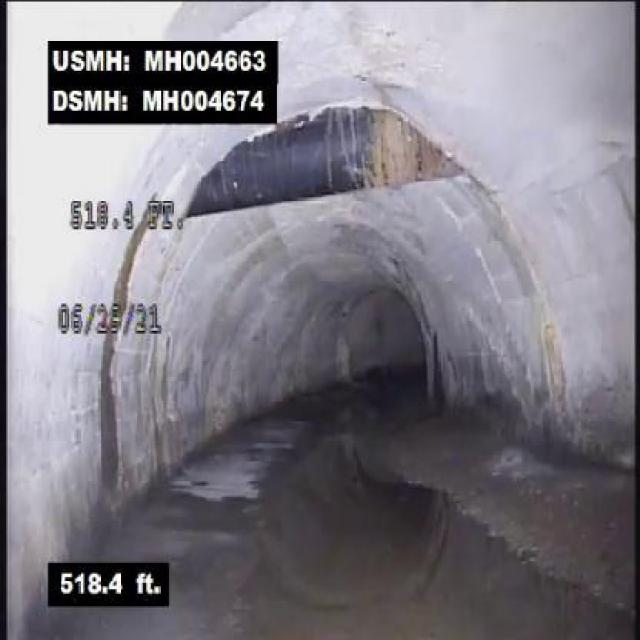Utility intrusion: (157, 94, 474, 221)
